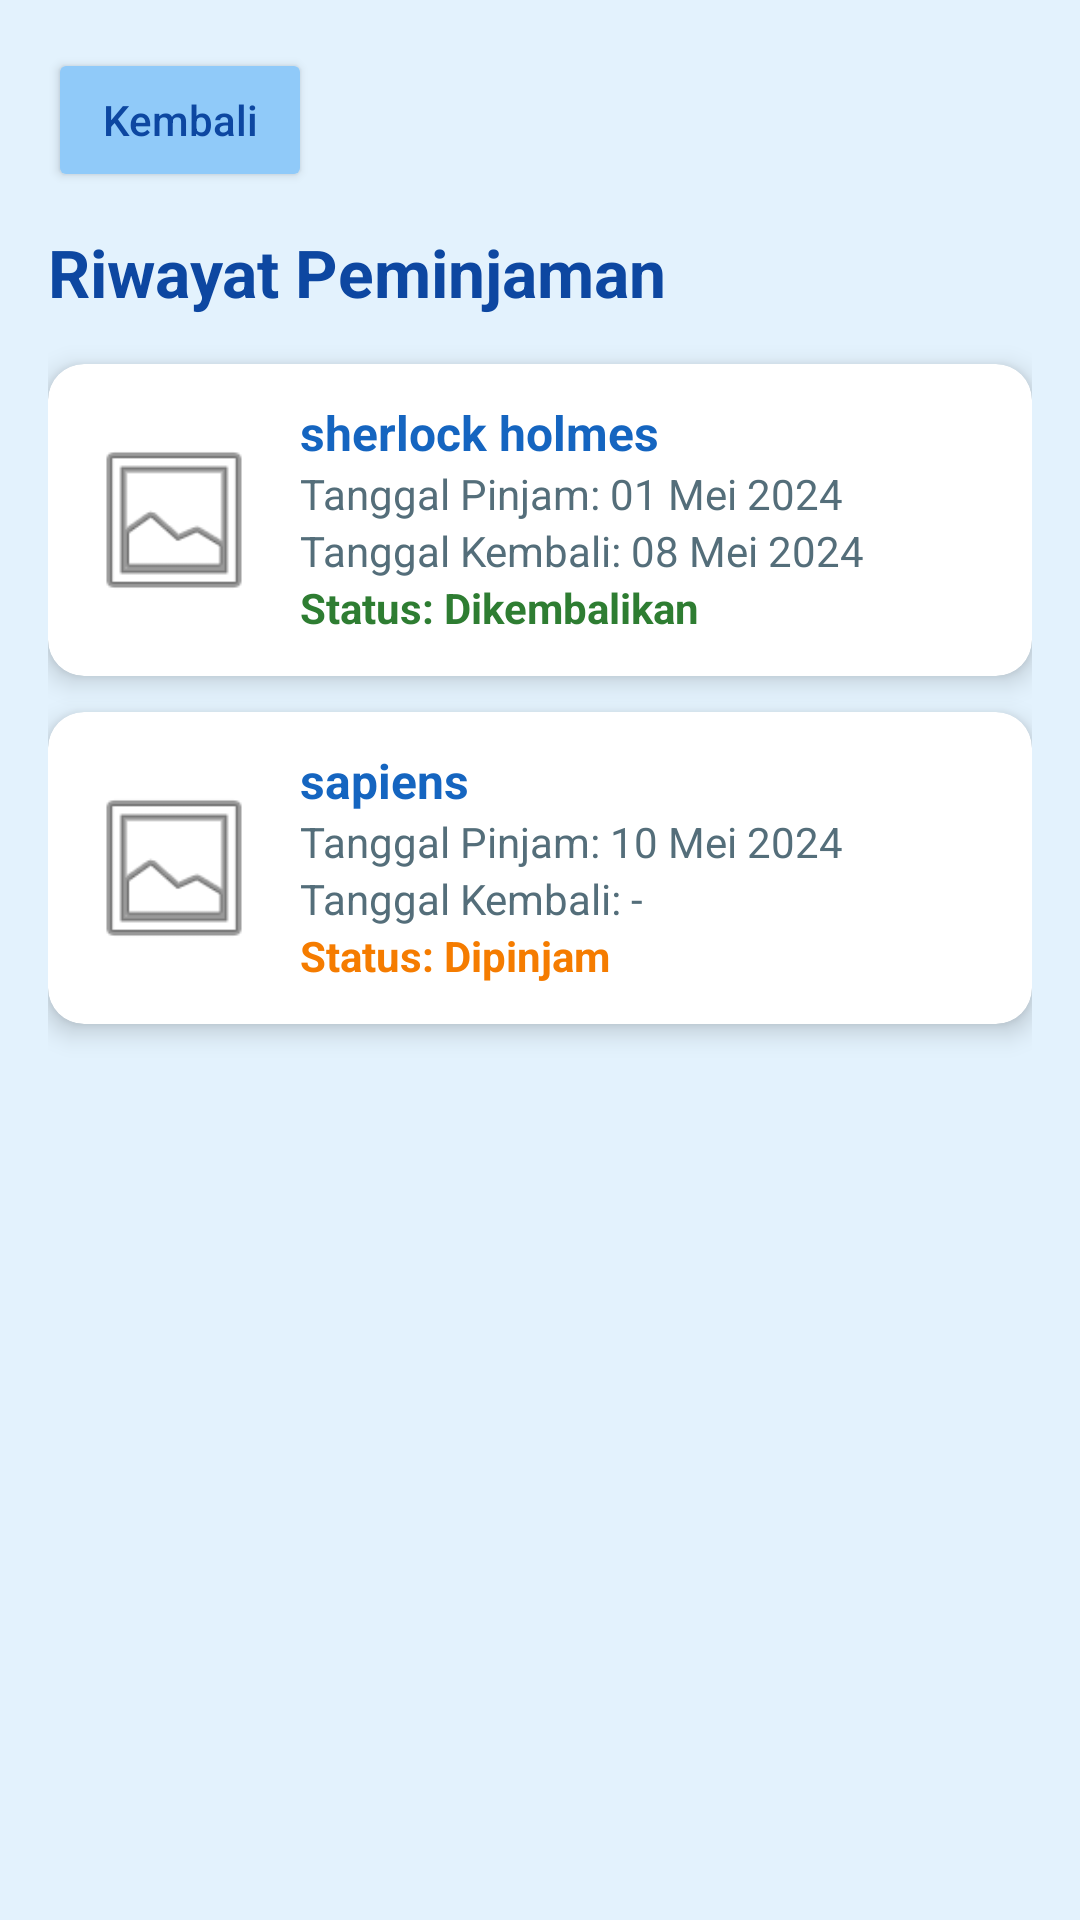

Where icons sit on this 1080 × 1920 app screen, as box=[x1, y1, x2, y2]:
gallery: box=[106, 452, 242, 588], box=[106, 800, 242, 936]
